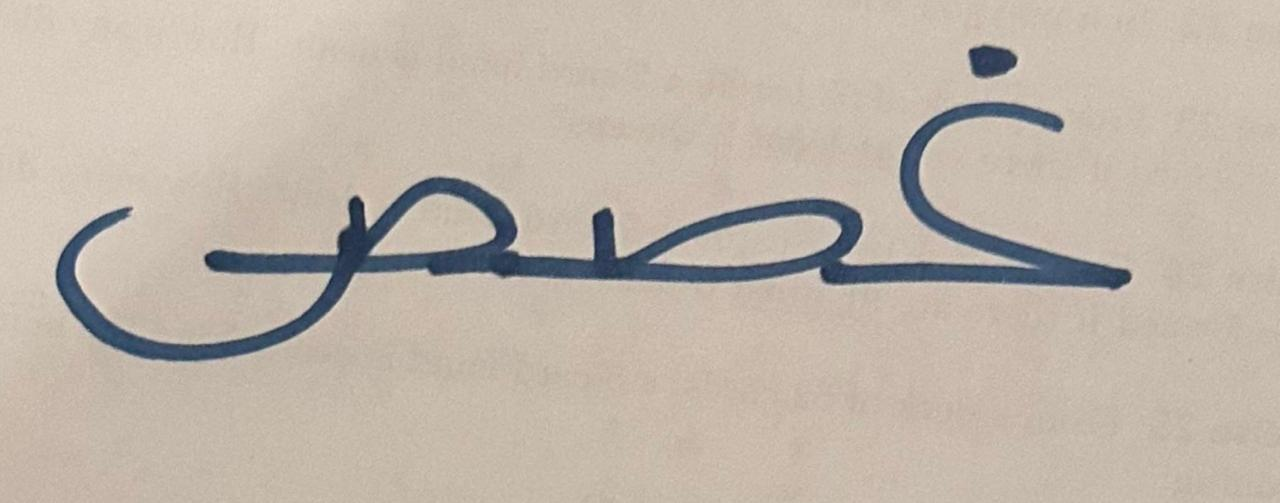ghain: (885, 1, 1167, 354)
seen: (39, 65, 544, 421), (547, 97, 882, 375)
